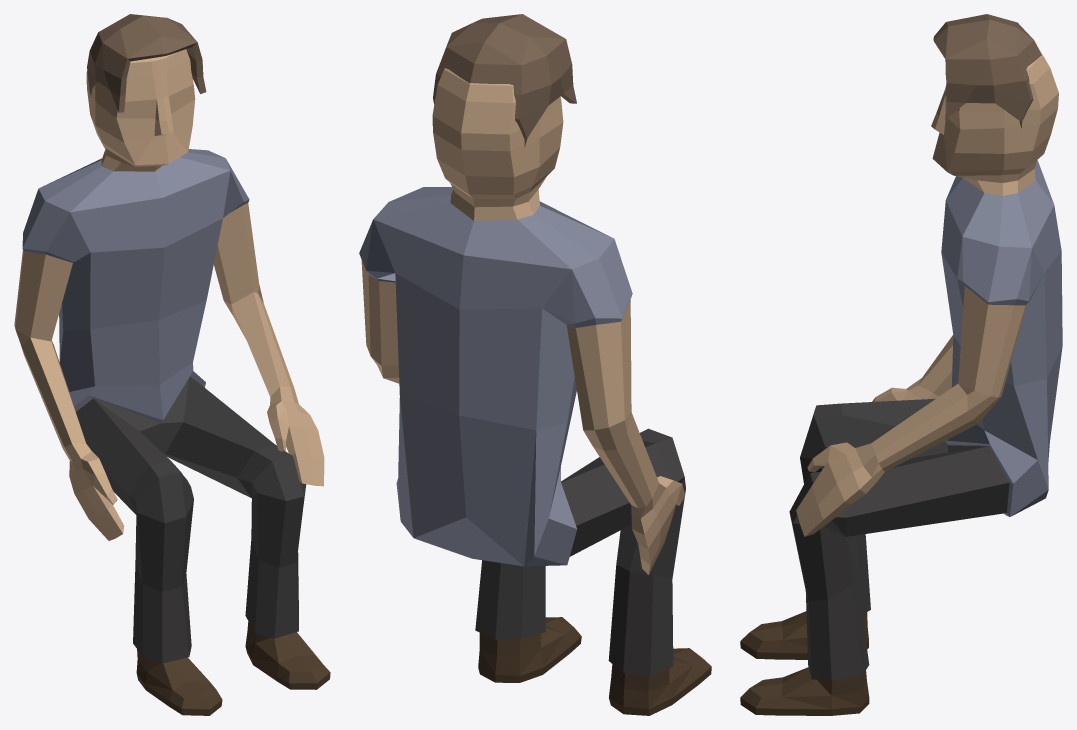
Rendered from male_sit_hair1.glb.
The picture shows the model from 3 angles, left to right: view 1: azimuth 30°, elevation 25°; view 2: azimuth 150°, elevation 25°; view 3: azimuth 270°, elevation 25°; orthographic projection. The views are drawn at different scales.
Parts seen in each view (by area): view 1: hair; view 2: hair; view 3: hair.
Part boxes in pixels (<box>): hair: <box>14,14,330,715</box>; hair: <box>359,14,711,715</box>; hair: <box>740,14,1062,715</box>.
Size of the model in its own units: 0.5818 by 1.48 by 0.6609.
